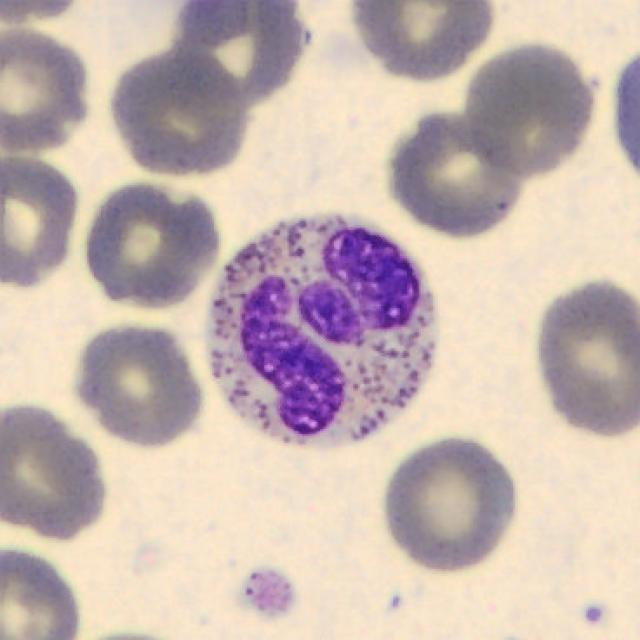Neutrofilo segmentado: (207, 214, 440, 450)
